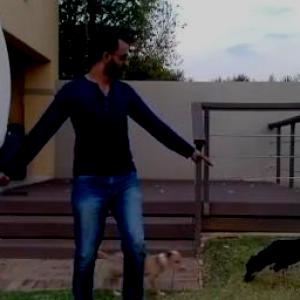land: (1, 0, 230, 299)
